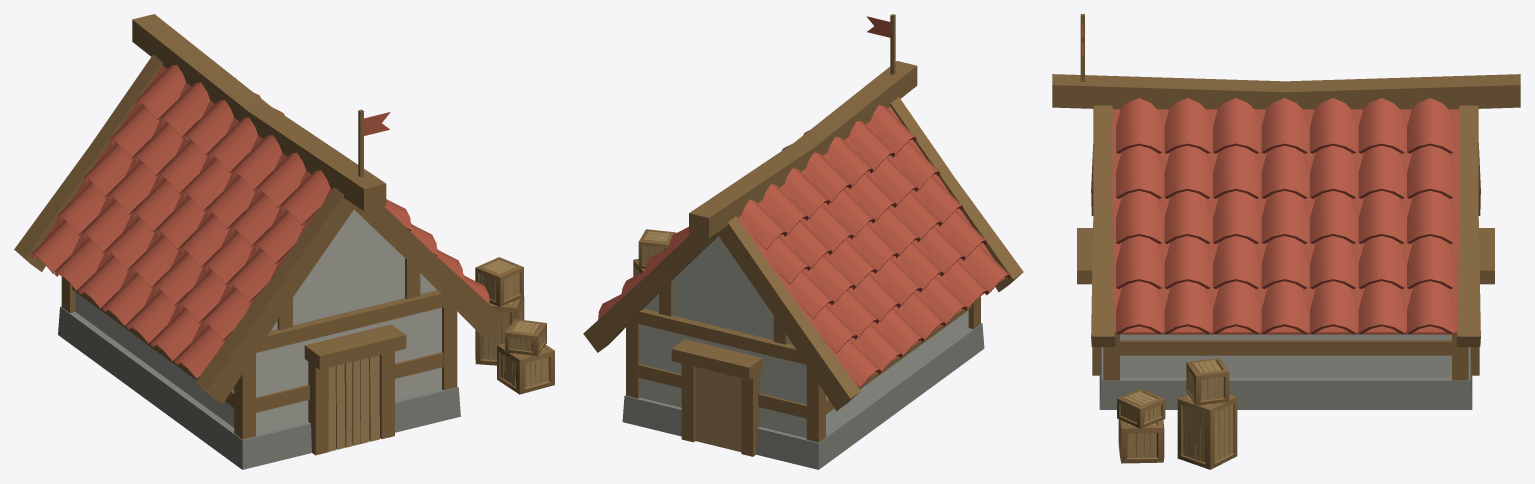
File: House-RSwoYSLblu.glb
3 renders of one model, left to right at view 1: azimuth 30°, elevation 25°; view 2: azimuth 150°, elevation 25°; view 3: azimuth 270°, elevation 25°, orthographic. The views are drawn at different scales.
Parts seen in each view (by area): view 1: House-RSwoYSLblu; view 2: House-RSwoYSLblu; view 3: House-RSwoYSLblu.
Boxes of the visible parts, bbox=[...] form: House-RSwoYSLblu: bbox=[14, 14, 554, 469]; House-RSwoYSLblu: bbox=[583, 14, 1023, 469]; House-RSwoYSLblu: bbox=[1052, 14, 1520, 469].
Size of the model in its own units: 1.11 by 0.9521 by 1.17.
